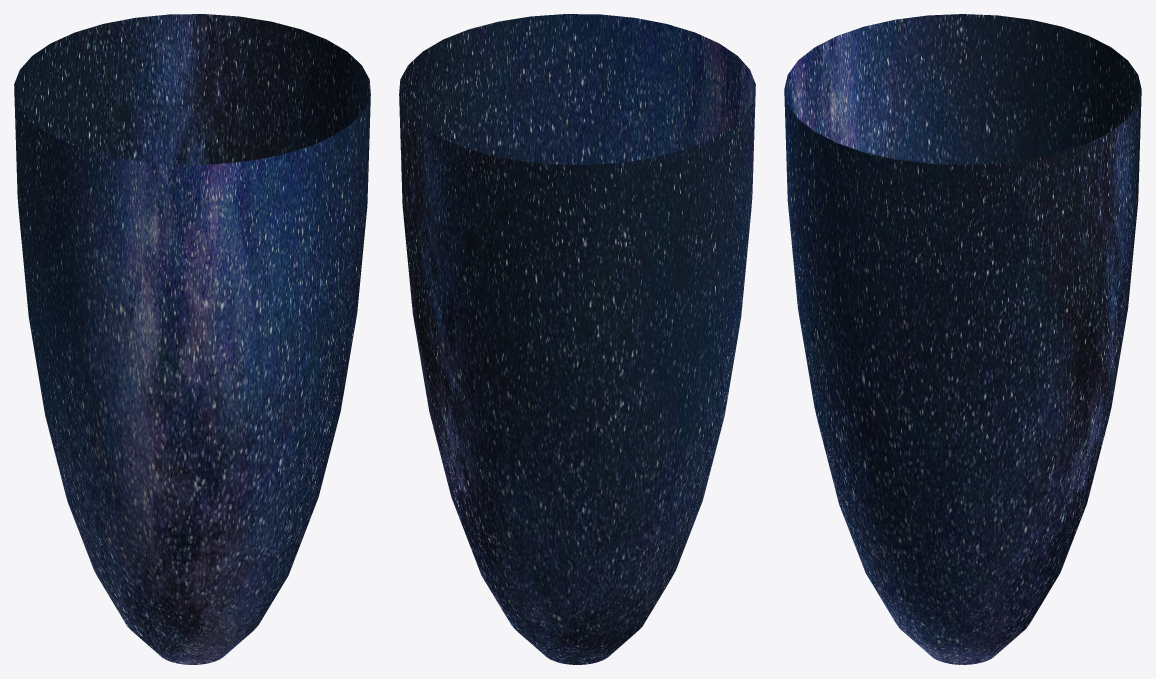
File: background windows2.fbx
The picture shows the model from 3 angles, left to right: view 1: azimuth 30°, elevation 25°; view 2: azimuth 150°, elevation 25°; view 3: azimuth 270°, elevation 25°; orthographic projection.
Parts seen in each view (by area): view 1: Sphere.001; view 2: Sphere.001; view 3: Sphere.001.
Boxes of the visible parts, x1=… form: Sphere.001: x1=14, y1=14, x2=370, y2=664; Sphere.001: x1=399, y1=14, x2=755, y2=664; Sphere.001: x1=784, y1=14, x2=1141, y2=664.
Size of the model in its own units: 200 by 353 by 200.
1 material, 1 textured.
